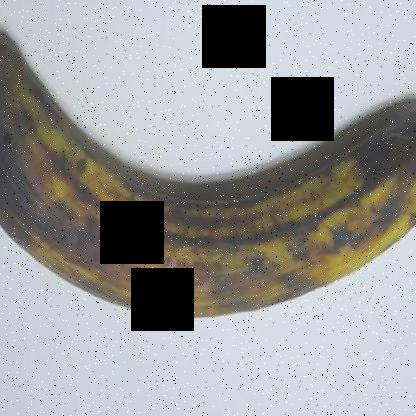overripe: (1, 27, 415, 339)
